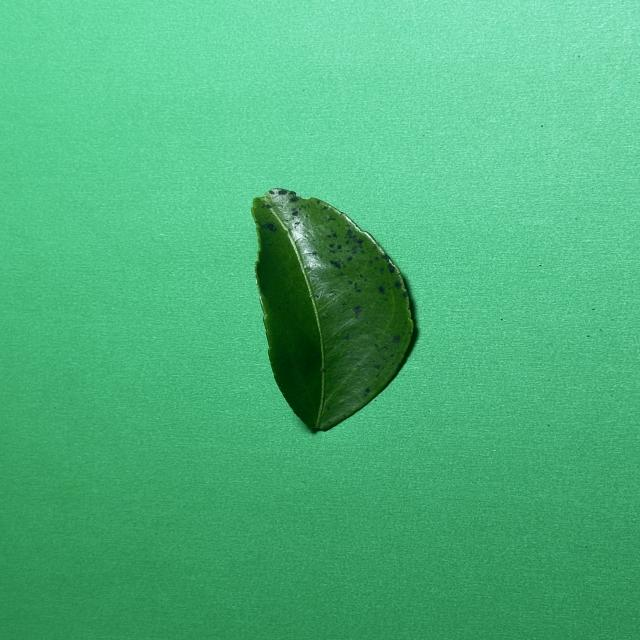sooty_mold: (252, 188, 413, 430)
